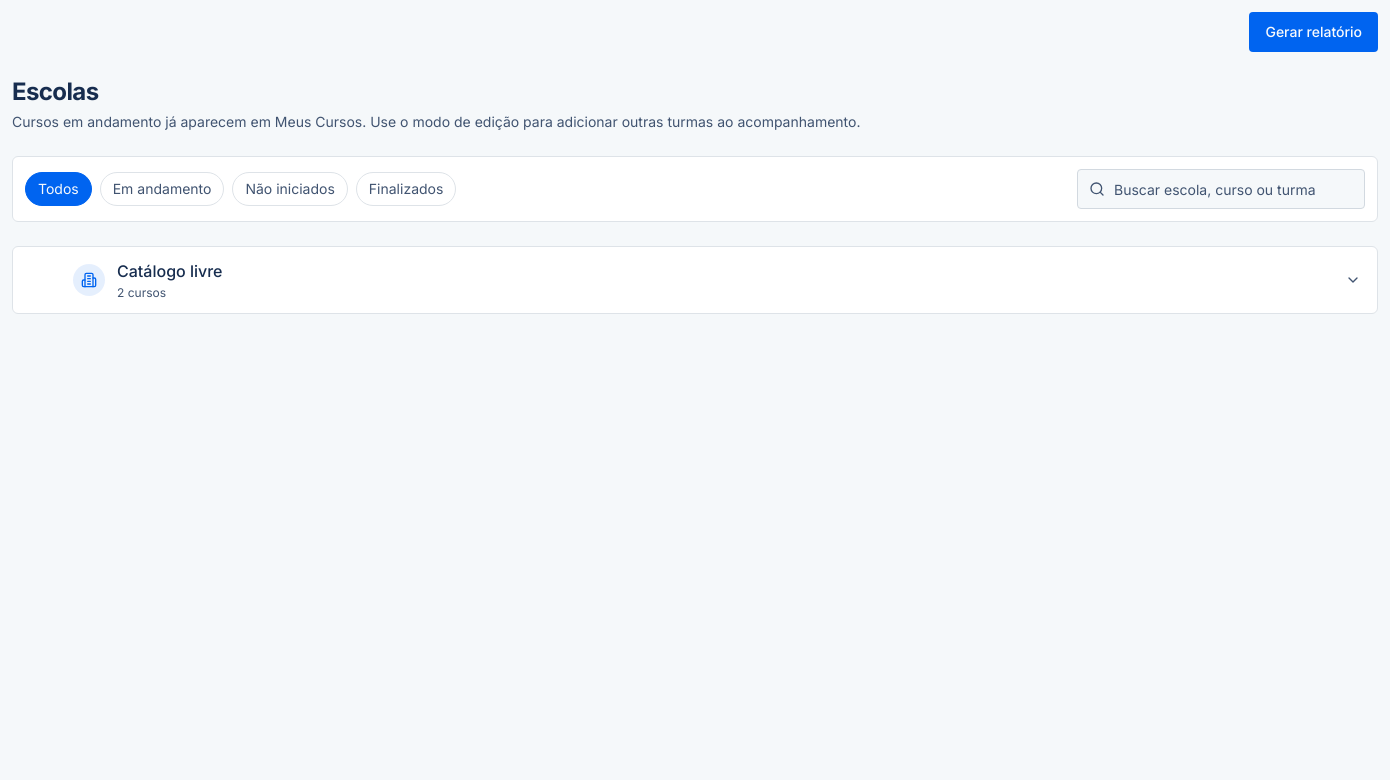
it: seleção nas árvores do portal › blocks category selection when the filtered catalog is incomplete
Click the button "Em andamento". click: (162, 189)
box: [100,172,224,206]
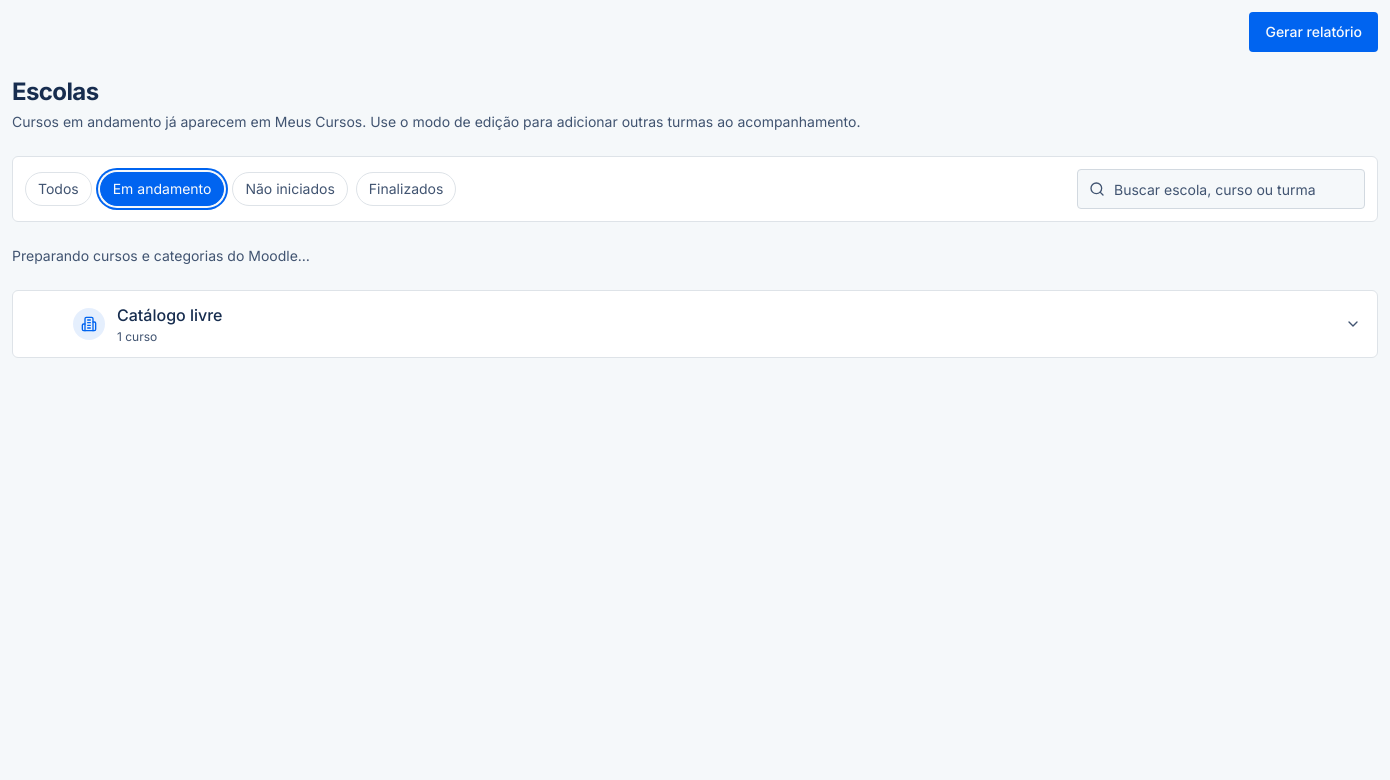
Check: the text "1 curso" is shown, box [117,329,157,344]
Click the button "Gerar relatório". click: (1314, 32)
box: [1249,12,1378,52]
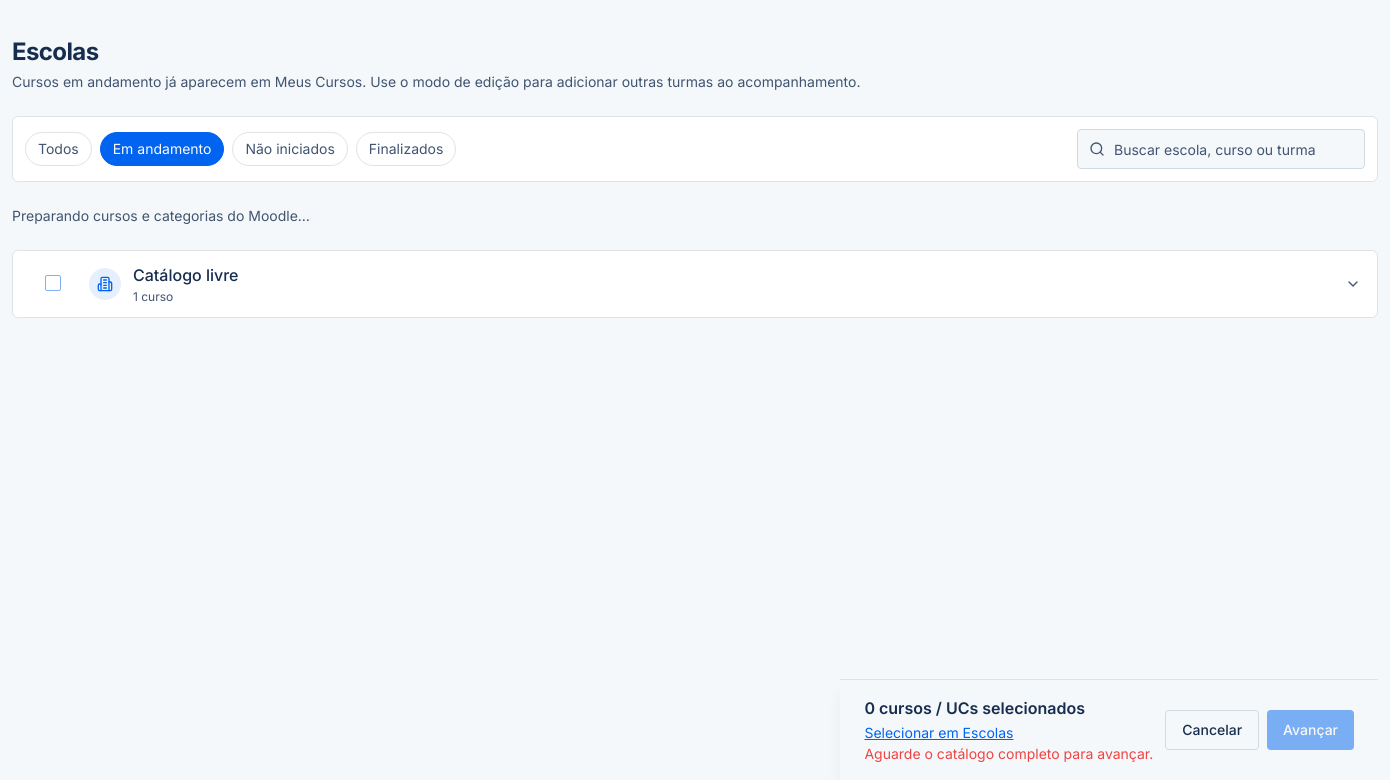
Check: the checkbox named "Selecionar Root > Catálogo livre para relatório" is disabled, box [45,275,61,291]
